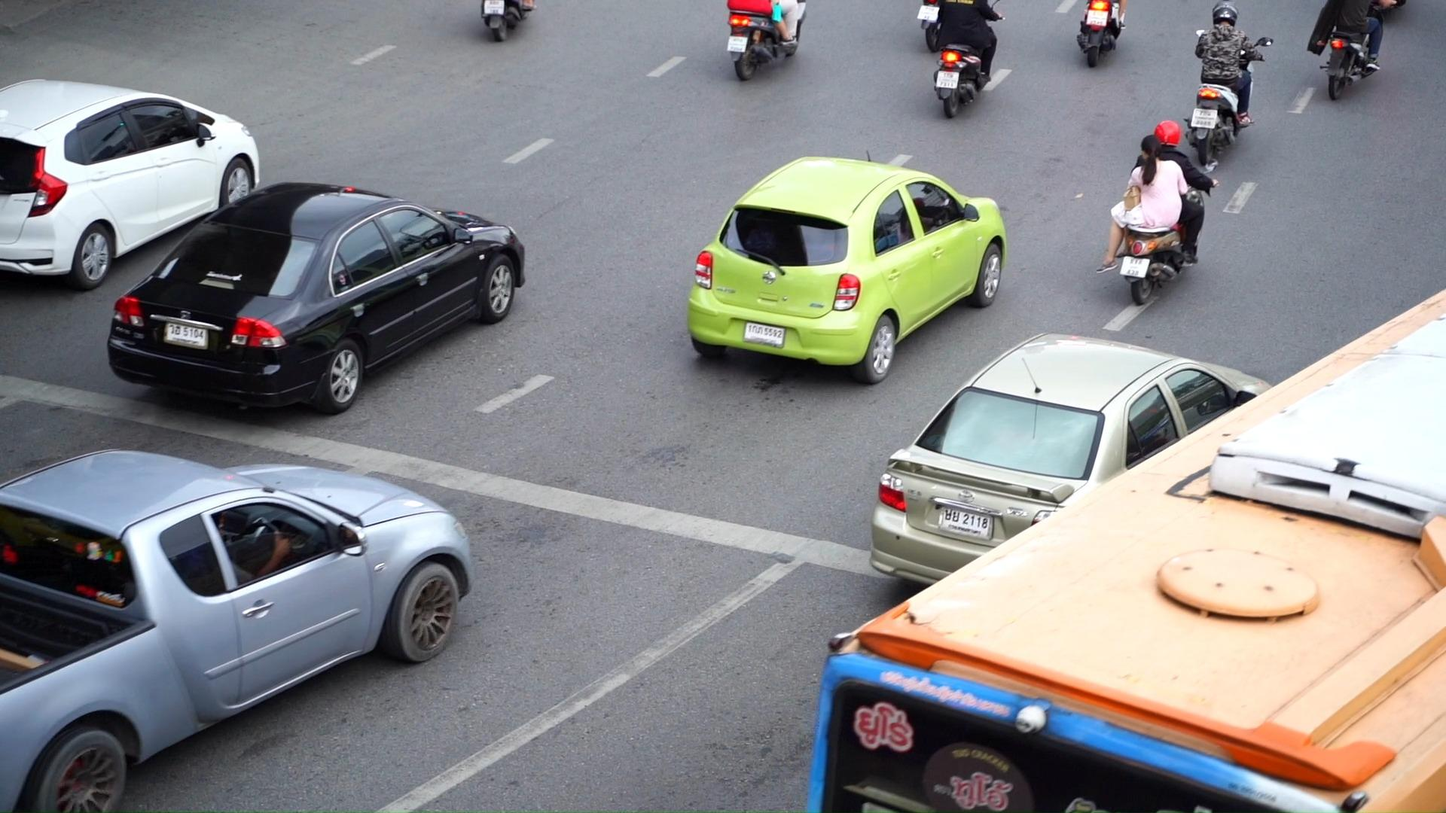driver: (1097, 120, 1219, 305), (1182, 0, 1274, 167), (933, 0, 1007, 118)
helmet: (1213, 0, 1240, 27), (1155, 120, 1181, 146)
no-helmet: (1141, 134, 1163, 161)
